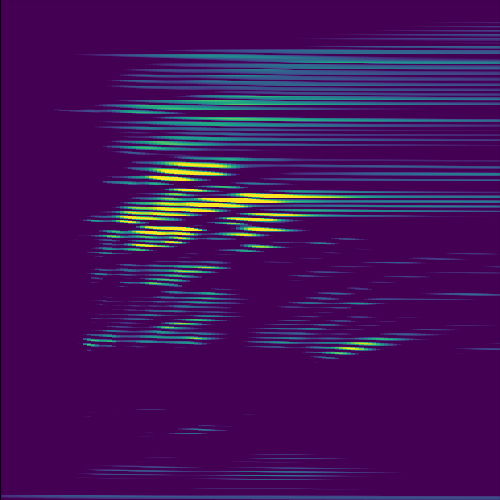semblance: (116, 192, 344, 219), (139, 158, 243, 185), (221, 210, 307, 240)
